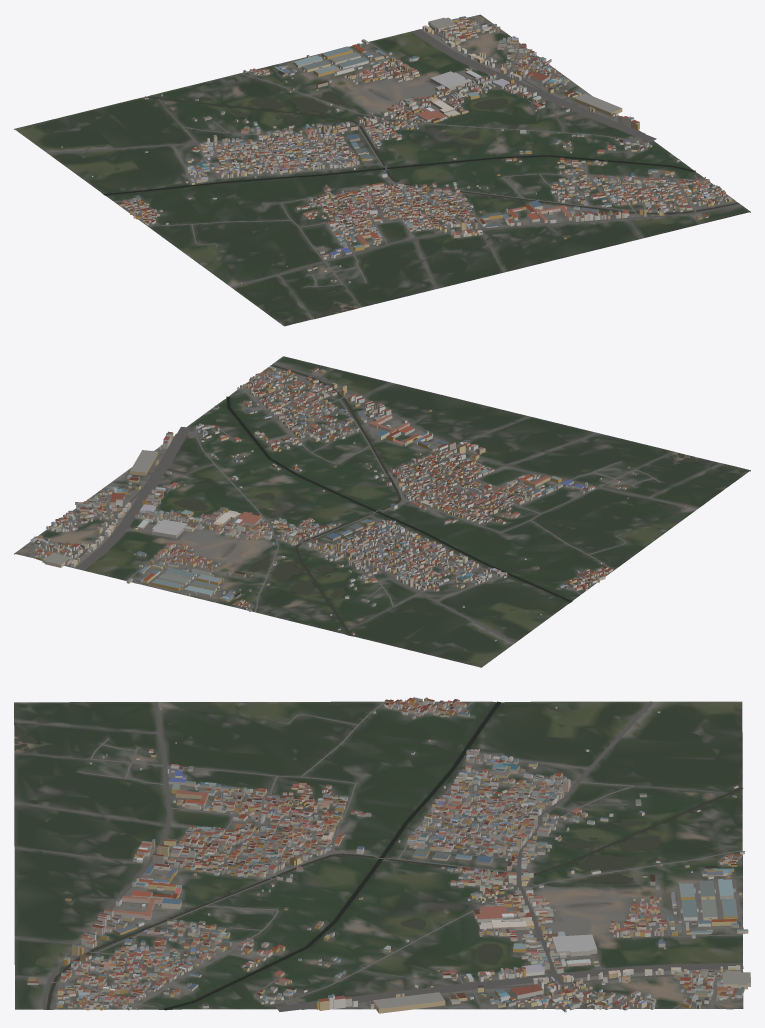
3 views of the same model, one above another, from view 1: azimuth 30°, elevation 25°; view 2: azimuth 150°, elevation 25°; view 3: azimuth 270°, elevation 25° (orthographic). The views are drawn at different scales.
Parts seen in each view (by area): view 1: ground, buildings, roads, water; view 2: ground, buildings, roads, water; view 3: ground, buildings, roads, water.
Boxes of the visible parts, box(x1,y1,x2,y2) form: ground: box(14, 14, 750, 326); buildings: box(61, 16, 732, 283); roads: box(47, 16, 739, 319); water: box(104, 84, 738, 318); ground: box(14, 356, 750, 667); buildings: box(30, 366, 685, 641); roads: box(22, 363, 721, 643); water: box(174, 365, 719, 635); ground: box(14, 701, 743, 1009); buildings: box(27, 697, 750, 1013); roads: box(14, 701, 743, 1011); water: box(14, 701, 743, 1010).
Size of the model in its own units: 1427 by 30.99 by 1419.
